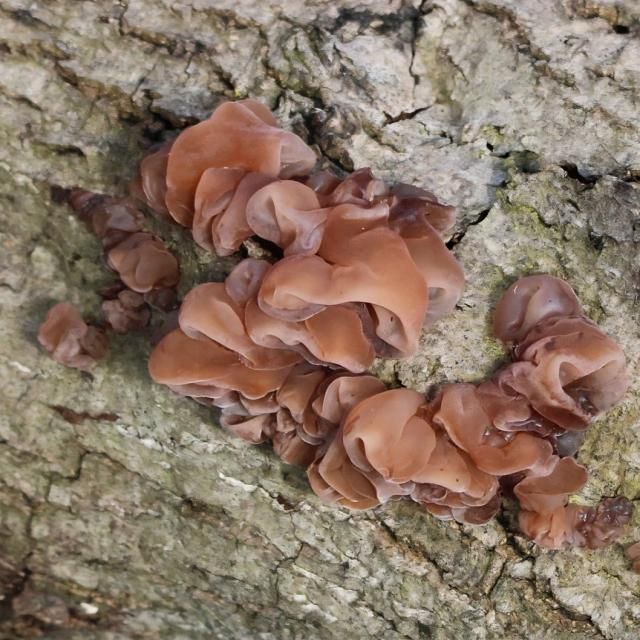Matang: (254, 164, 470, 361), (309, 382, 558, 527), (146, 325, 388, 470), (127, 97, 320, 259), (487, 272, 632, 459), (179, 259, 380, 372), (56, 188, 180, 310), (519, 458, 634, 556), (41, 304, 108, 369), (98, 290, 150, 333)
